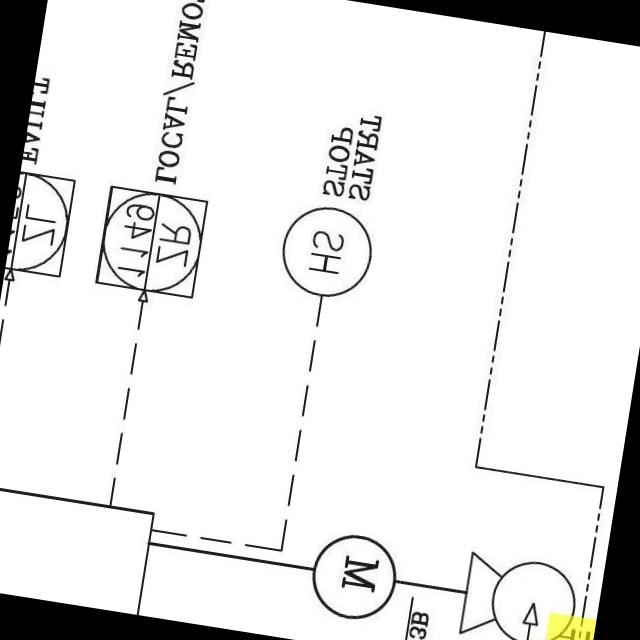M: (306, 526, 404, 626)
P: (453, 541, 584, 640)
